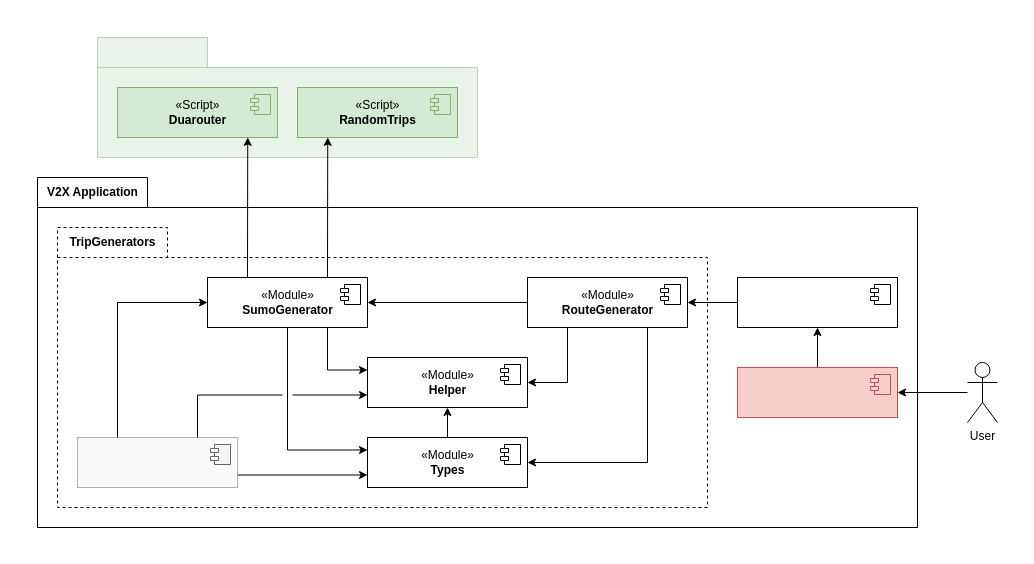
Image size: 1034x564. Some labels were removed from this diagram. Here are the shapes that lost their labels. From the top down, the box of each, then its label:
(96, 36, 478, 158): SUMO
(736, 276, 898, 328): «Module» SumoRunner
(736, 366, 898, 418): «Module» Run
(76, 436, 238, 488): «Module» CustomRoutes
